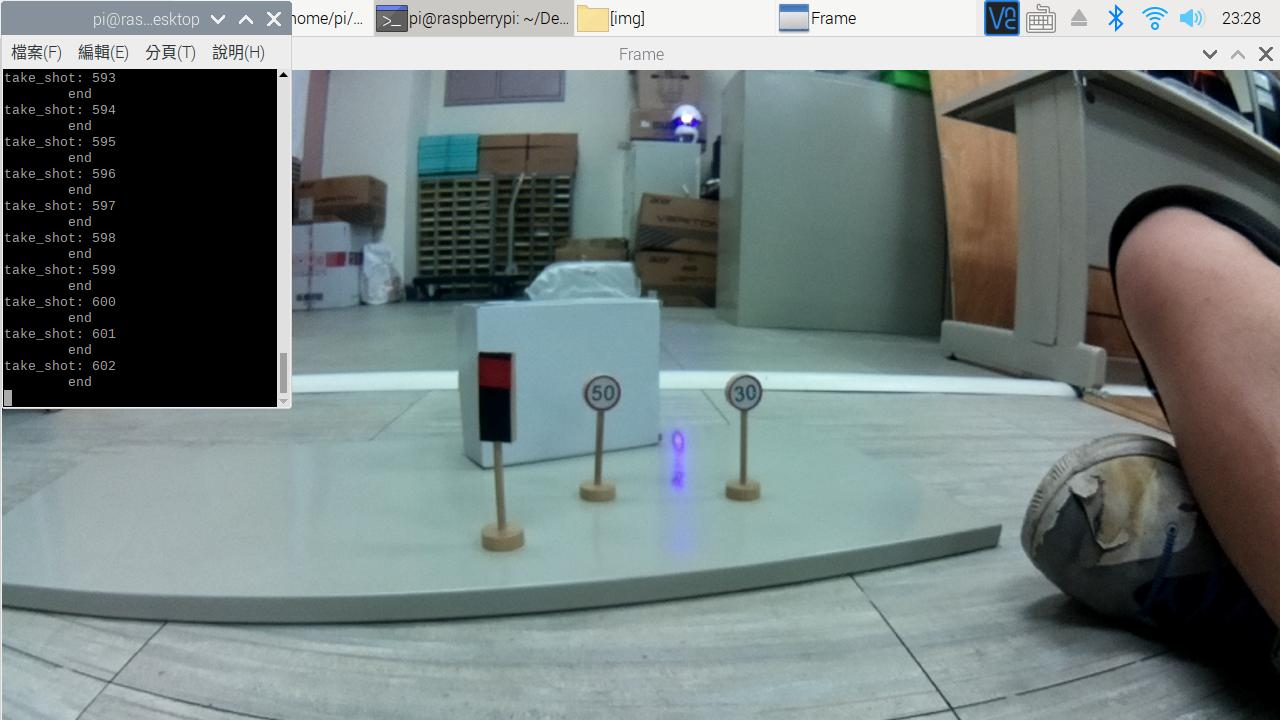Red: (469, 339, 529, 456)
Speed30: (714, 369, 783, 420)
Speed50: (581, 368, 634, 422)
